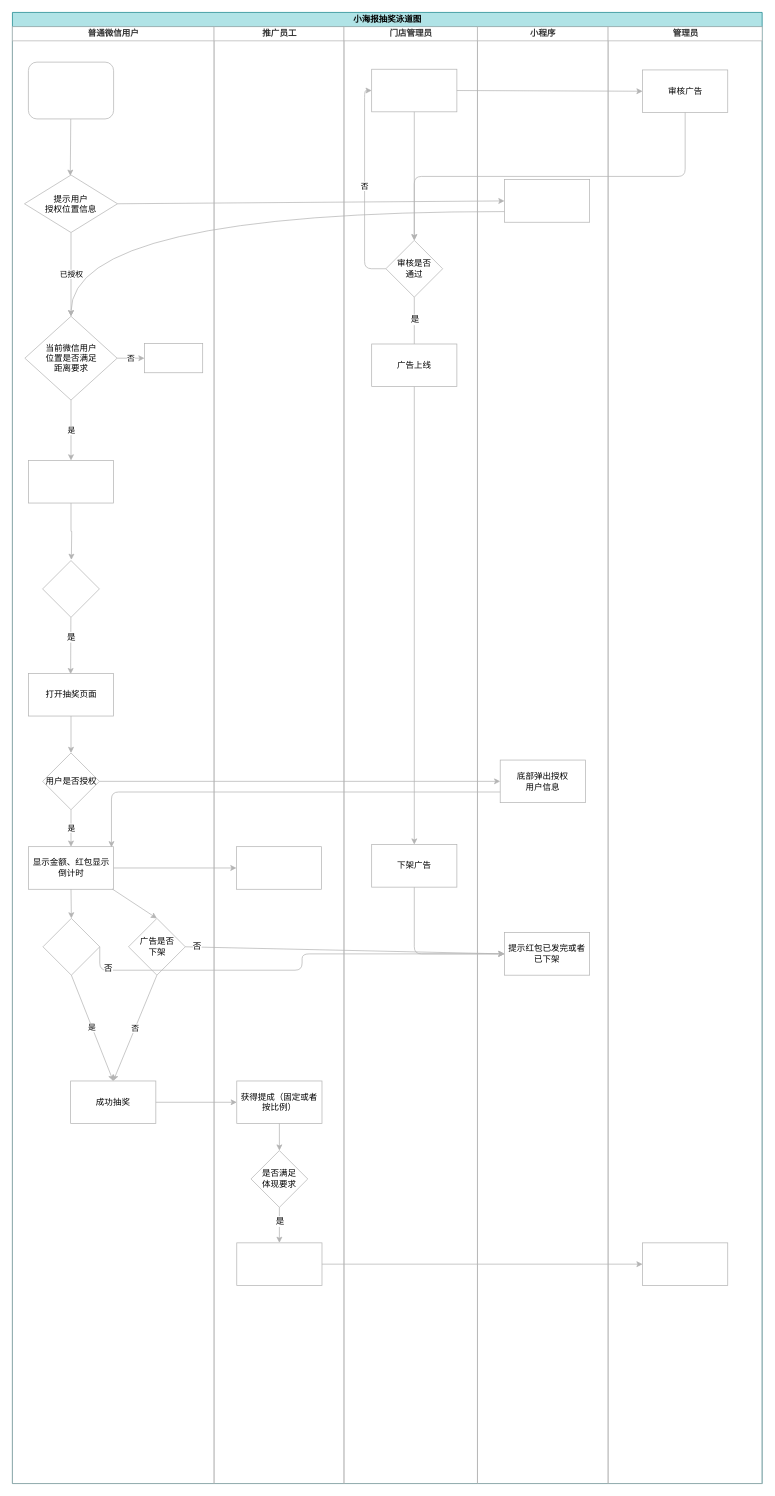
Some shapes in this 775 by 1496 pixel diagram are drawn without their labels. The shapes that lost their labels are listed below. From the top down, each one's centre as x and y in pixels, then its label:
At (71,90): "通过小程序首页、朋友圈分享、朋友转发进入红包详情页".
At (414,90): "编辑发布广告".
At (547,200): "打开授权页面".
At (173,358): "红包位置提示 位置不符".
At (71,481): "显示红包浏览倒计时".
At (70,588): "浏览 倒计时结束".
At (279,867): "推广员填ID".
At (71,946): "是否还有 余额可抽".
At (279,1263): "体现申请".
At (685,1263): "审批".
